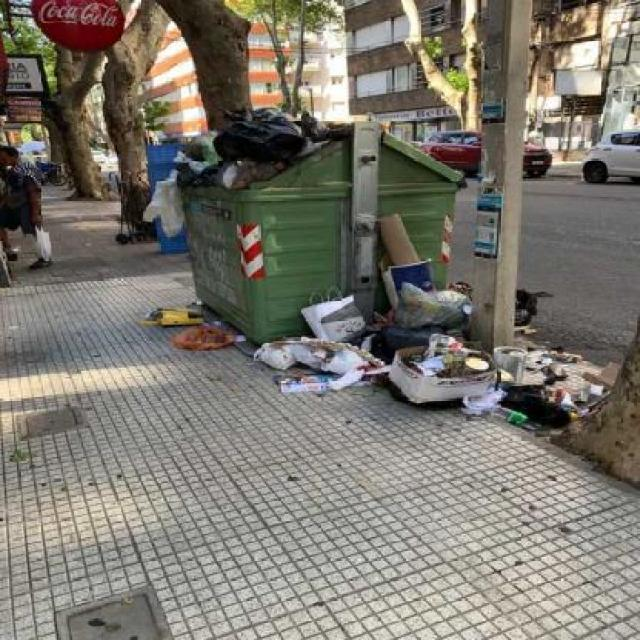garbage: (255, 296, 628, 436), (149, 111, 328, 235), (366, 211, 472, 300), (134, 300, 245, 359)
